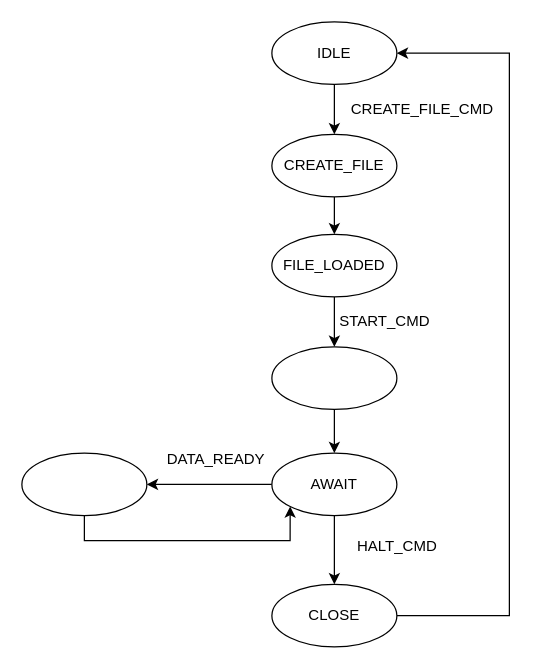
Some shapes in this 541 by 669 pixel diagram are drawn without their labels. Each missing label, with the centre of its shape:
"PREPARE" goes at point (334, 377).
"WRITE" goes at point (84, 484).
